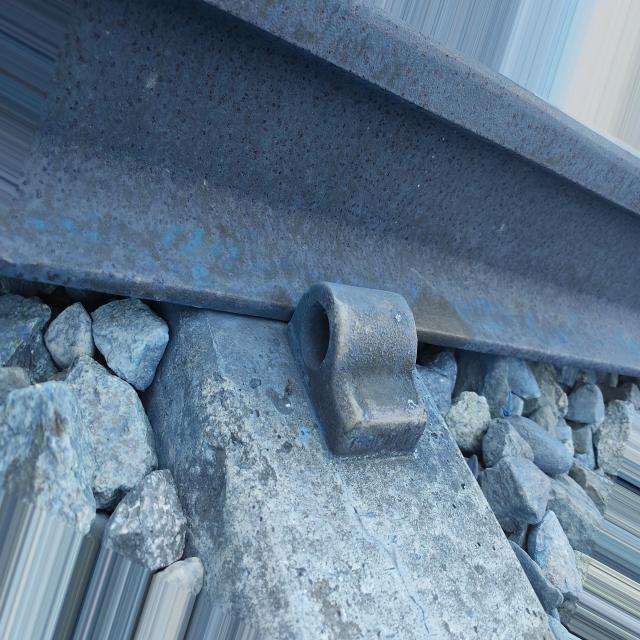Missing Fastener: (254, 274, 439, 452)
